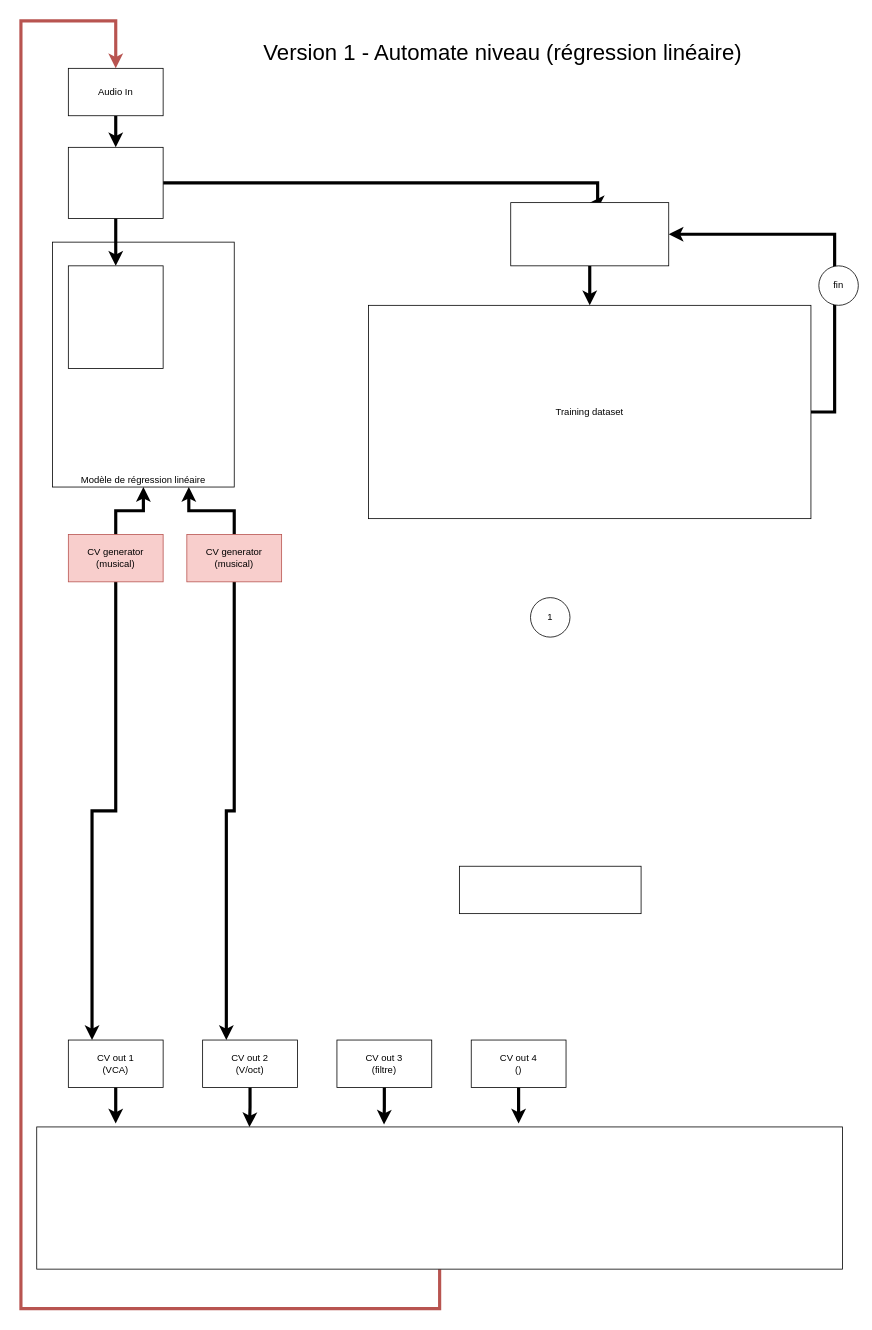
Some shapes in this 872 by 1330 pixel diagram are drawn without their labels. Here are the shapes that lost their labels. From the top down, the centre of each, then its label:
pixel 115 182: Analyzer - pitch - amplitude
pixel 589 234: Automate
pixel 115 317: Tableau de correspondance
pixel 550 889: Tableau CV aléatoire
pixel 439 1197: Modulaire
